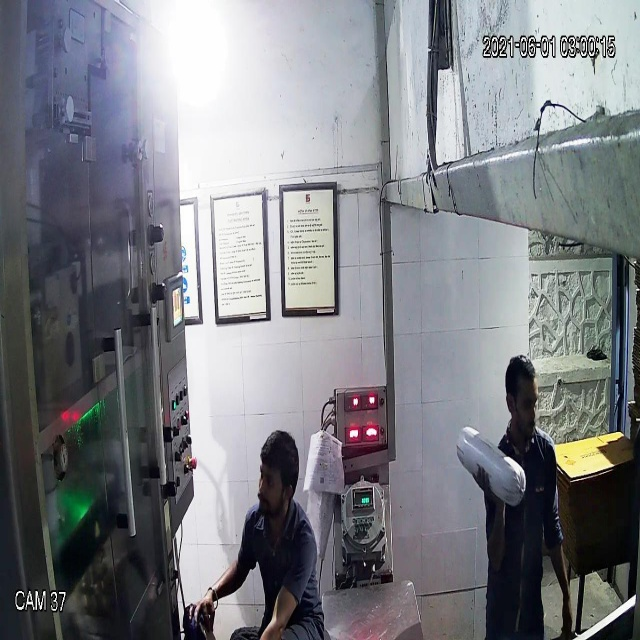Sin_gafas: (254, 465, 299, 500)
